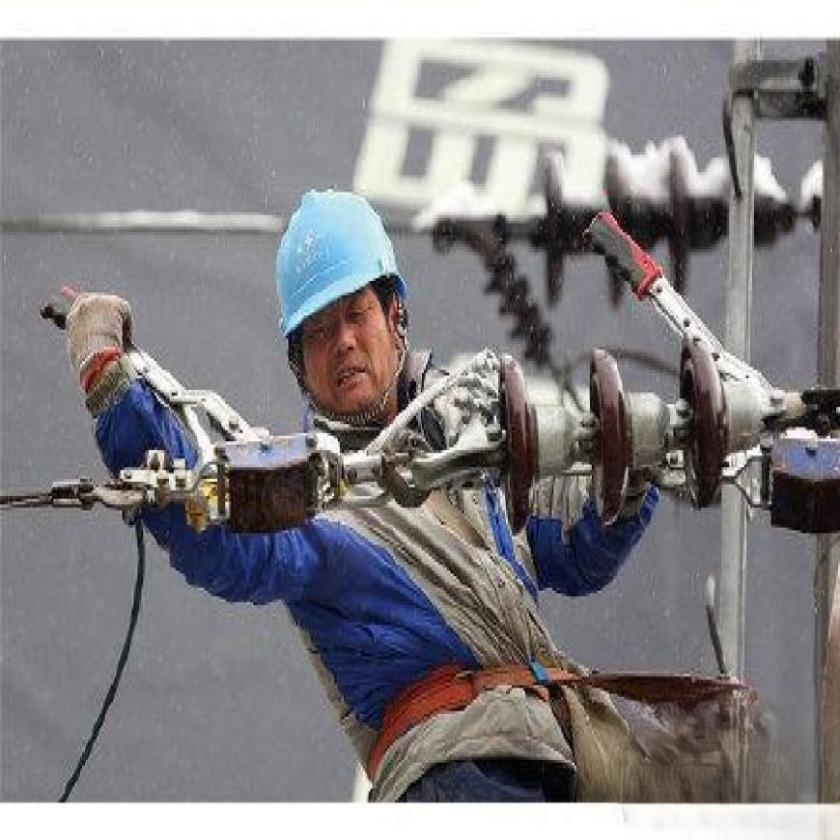Con_casco: (267, 186, 415, 440)
